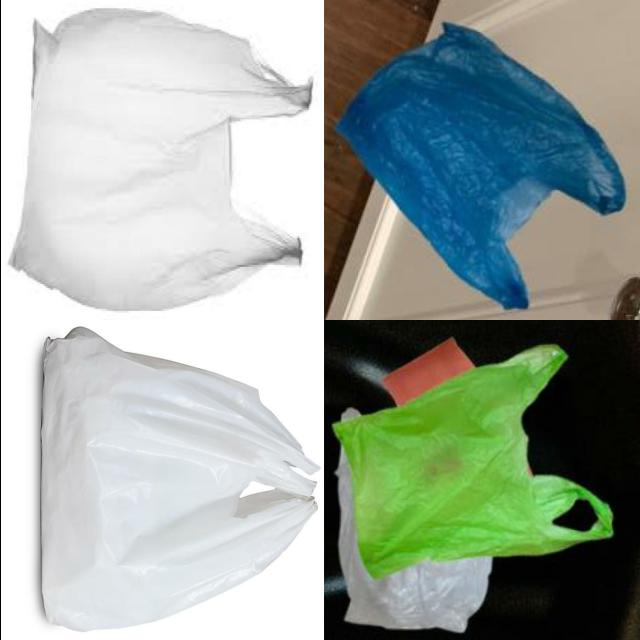plastik: (13, 8, 310, 311), (41, 328, 318, 631), (336, 23, 624, 309), (333, 345, 611, 579), (336, 448, 491, 632)
